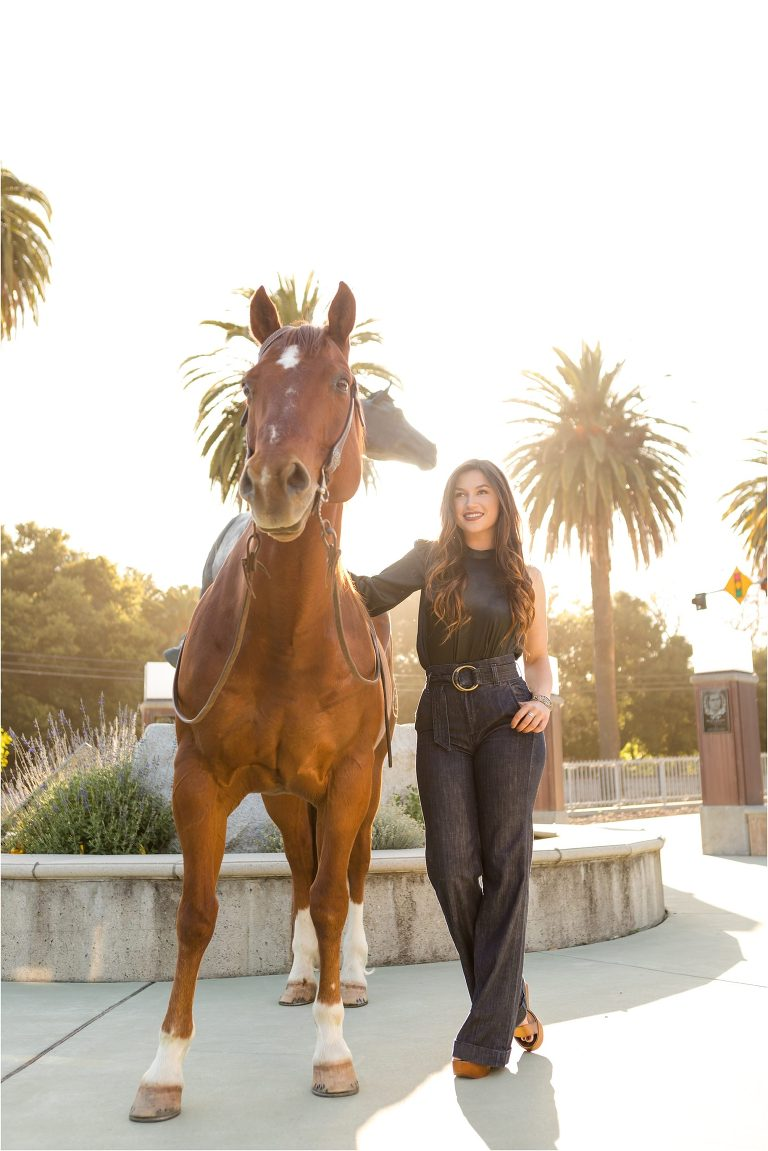Horse: (135, 280, 383, 1136)
Person: (401, 436, 583, 1071)
